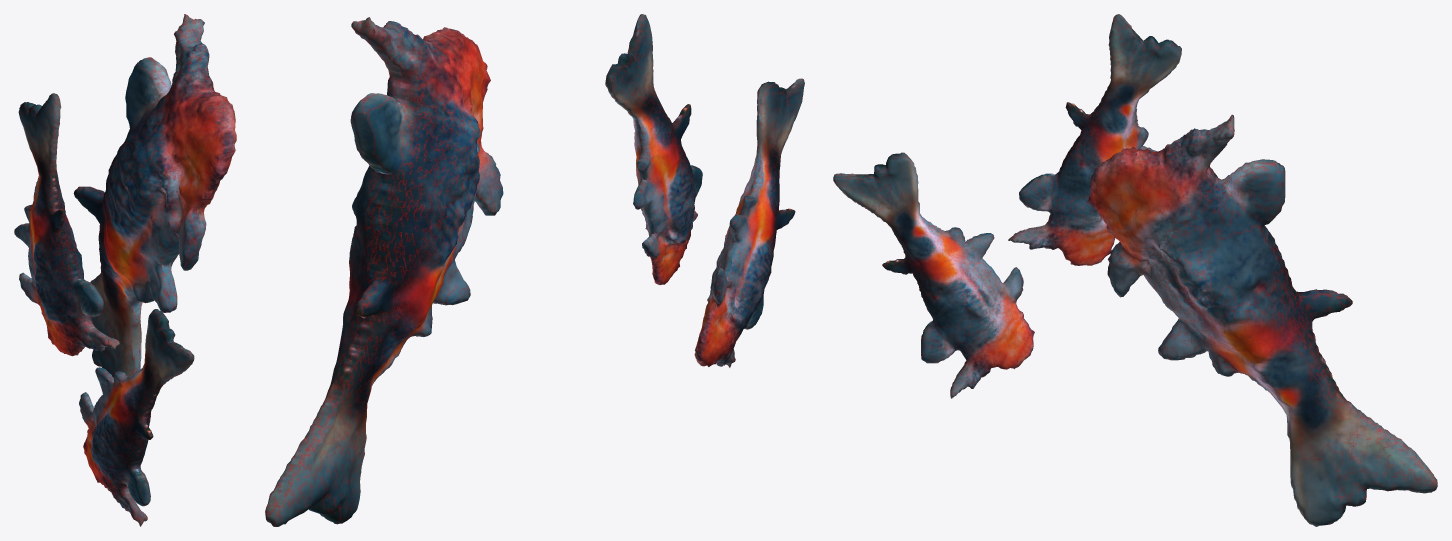
File: fish_2.glb
3 renders of one model, left to right at view 1: azimuth 30°, elevation 25°; view 2: azimuth 150°, elevation 25°; view 3: azimuth 270°, elevation 25°, orthographic. The views are drawn at different scales.
Parts seen in each view (by area): view 1: model.005, model.002, model.001; view 2: model.005, model.001, model.002; view 3: model.005, model.001, model.002.
Boxes of the visible parts, x1,y1,x2,y2 form: model.005: [73, 14, 236, 377]; model.002: [14, 93, 119, 356]; model.001: [79, 309, 194, 526]; model.005: [265, 17, 503, 526]; model.001: [694, 78, 804, 367]; model.002: [605, 14, 702, 284]; model.005: [1087, 114, 1437, 526]; model.001: [833, 152, 1034, 398]; model.002: [1008, 14, 1181, 265].
Size of the model in its own units: 0.4298 by 0.734 by 0.9422.
Materials: 3 (3 with a texture image).
